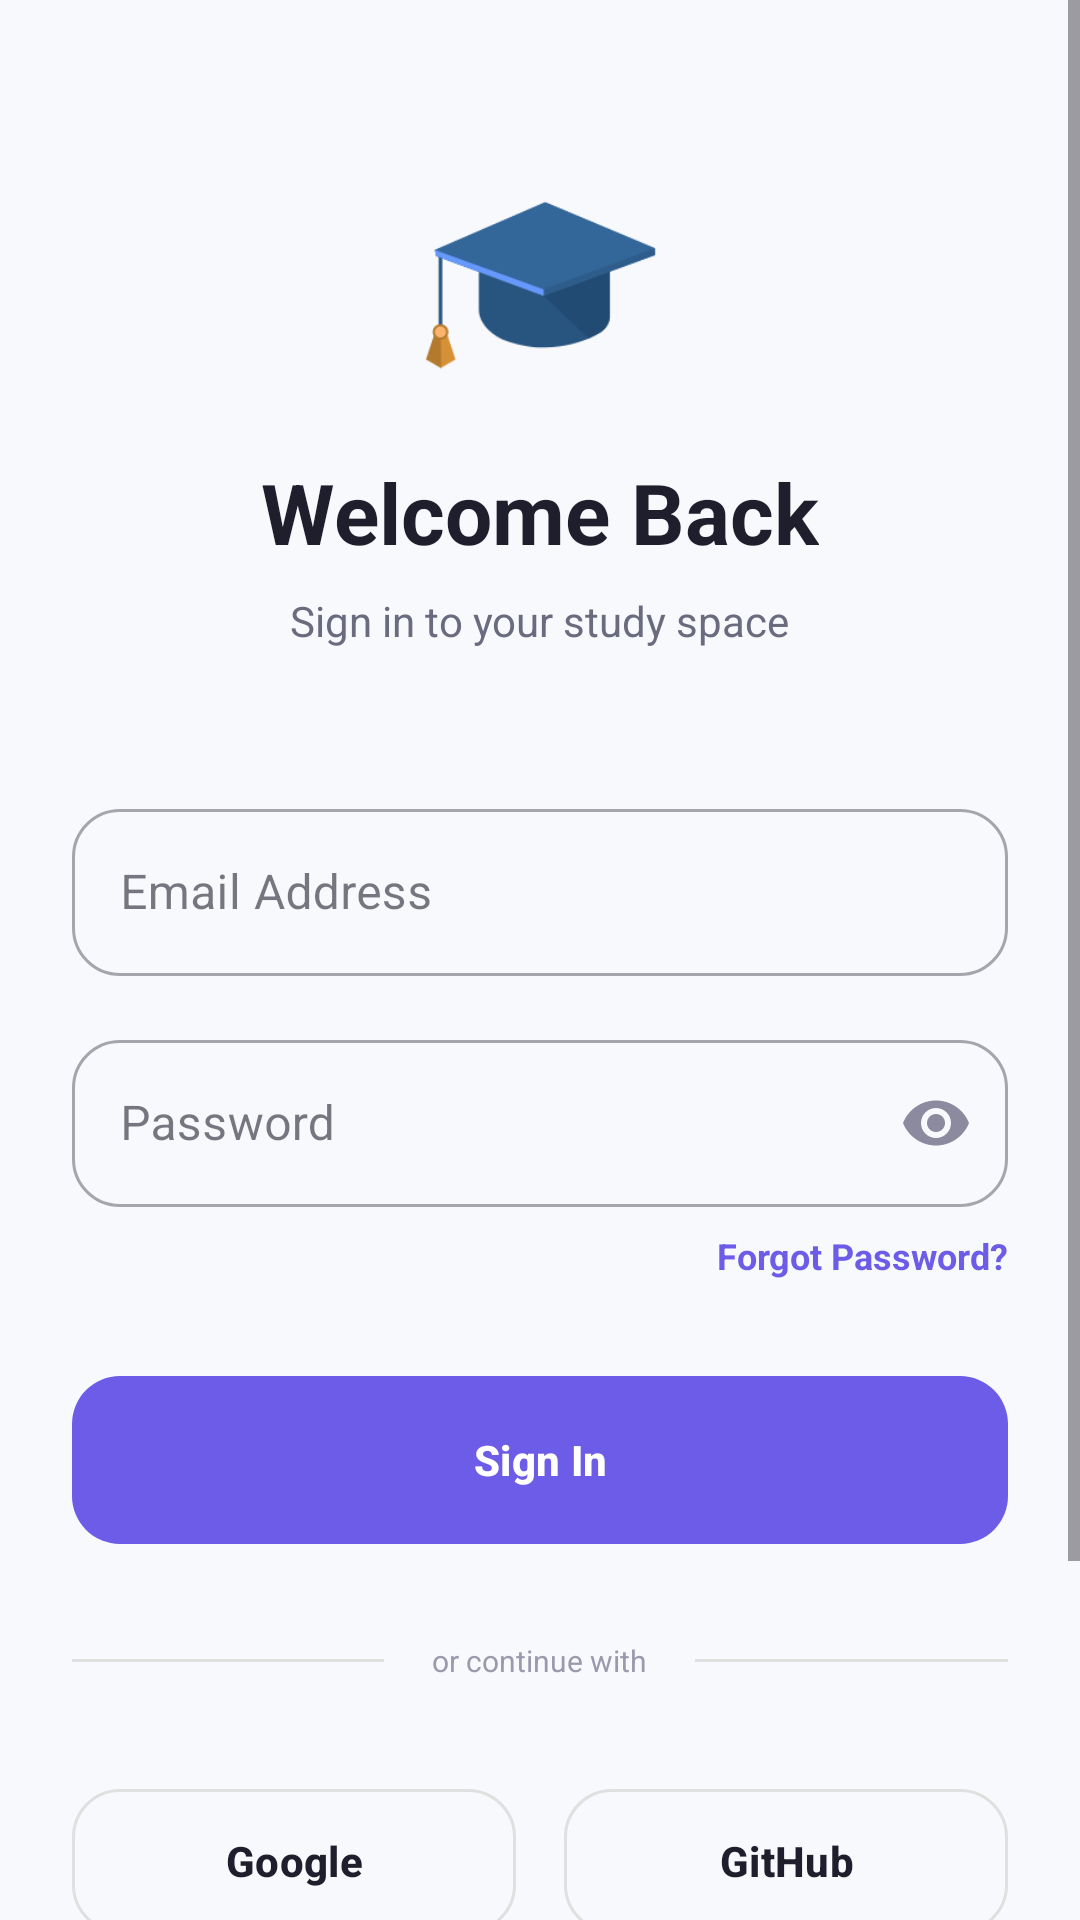

Where icons sit on this 1080w x 1920h app screen, as {"left": x1, "top": y1, "right": x2, "bottom": y2}:
graduationcap: {"left": 426, "top": 202, "right": 656, "bottom": 369}
